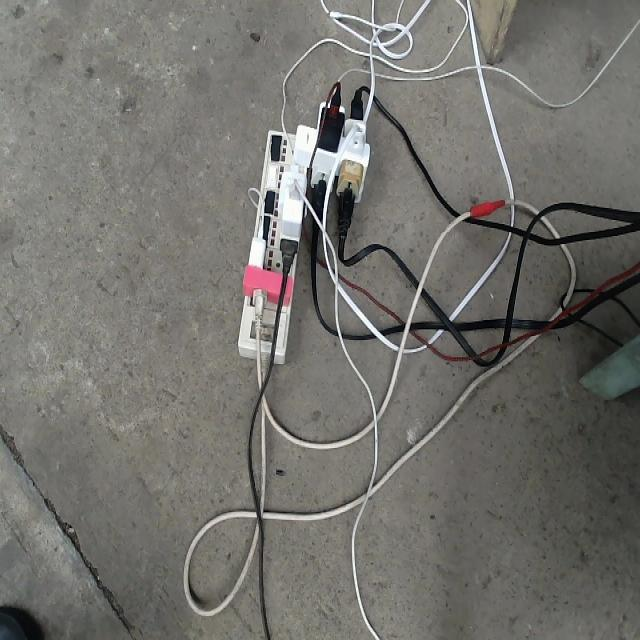-: (237, 79, 371, 364)
